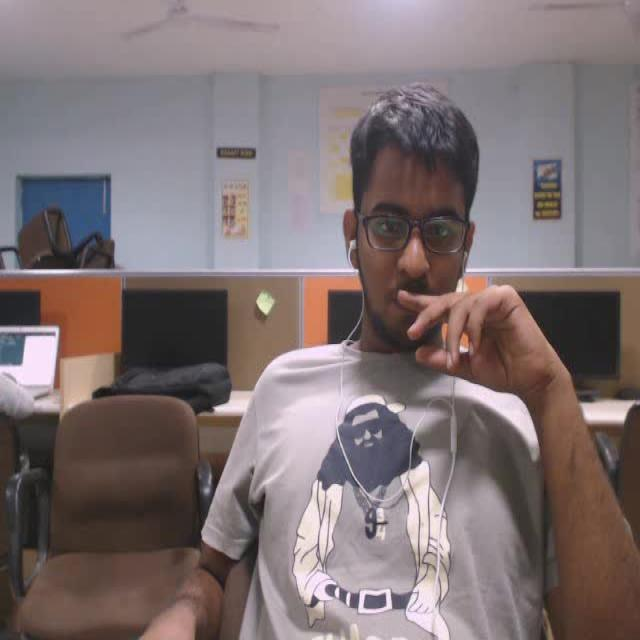Bored: (308, 77, 524, 394)
